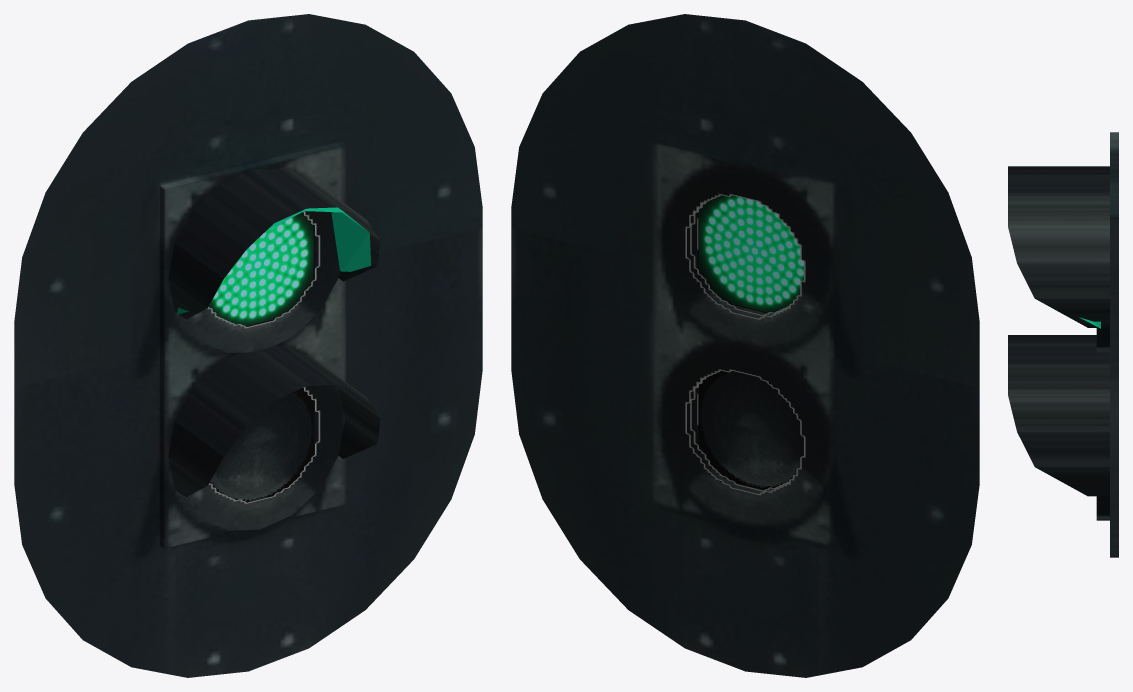
File: Signal2L4.obj
3 views of the same model, side by side, from view 1: azimuth 30°, elevation 25°; view 2: azimuth 150°, elevation 25°; view 3: azimuth 270°, elevation 25° (orthographic). The views are drawn at different scales.
Size of the model in its own units: 0.58 by 0.77 by 0.125.
